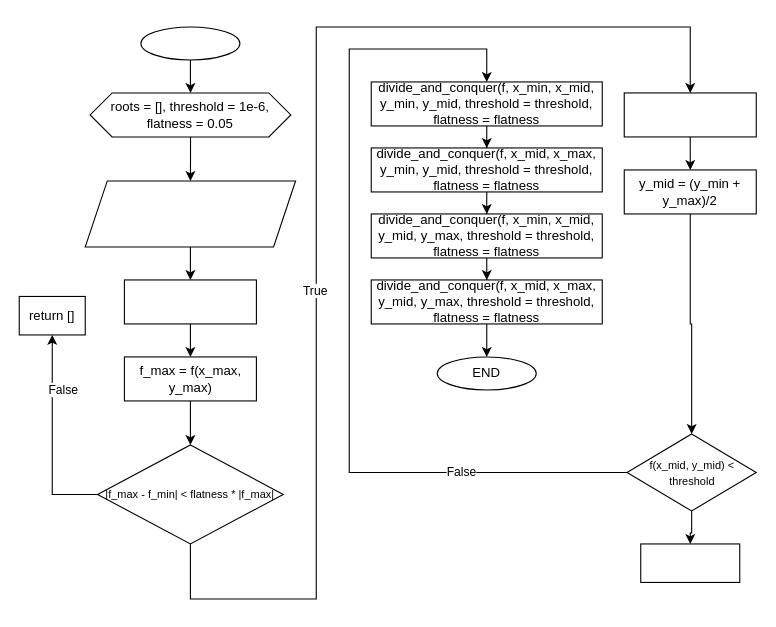
Image size: 776x627. Some labels were removed from this diagram. Here are the shapes that lost their labels. From the top down, the centre of each, then its label:
At pixel 190 43: "START".
At pixel 689 114: "x_mid = (x_min + x_max)/2".
At pixel 190 213: "Input f, x_min, x_max, y_min, y_max, threshold, flatness".
At pixel 189 301: "f_min = f(x_min, y_min)".
At pixel 690 562: "return roots".
